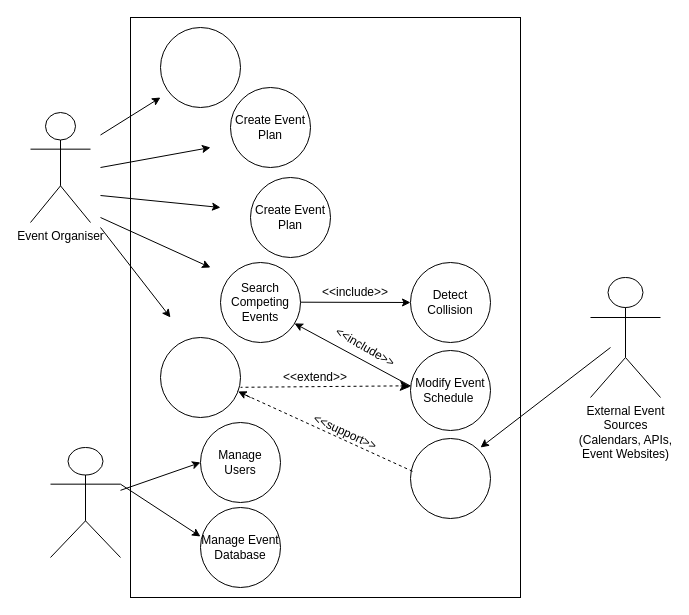
Image size: 689x615. Some labels were removed from this diagram. The centre of each missing label's shape, as x and y in pixels:
"Import External Event Data" goes at point 450,478.
"Register/ Log in" goes at point 200,67.
"System Administrator" goes at point 85,502.
"View Collision Report" goes at point 200,377.
